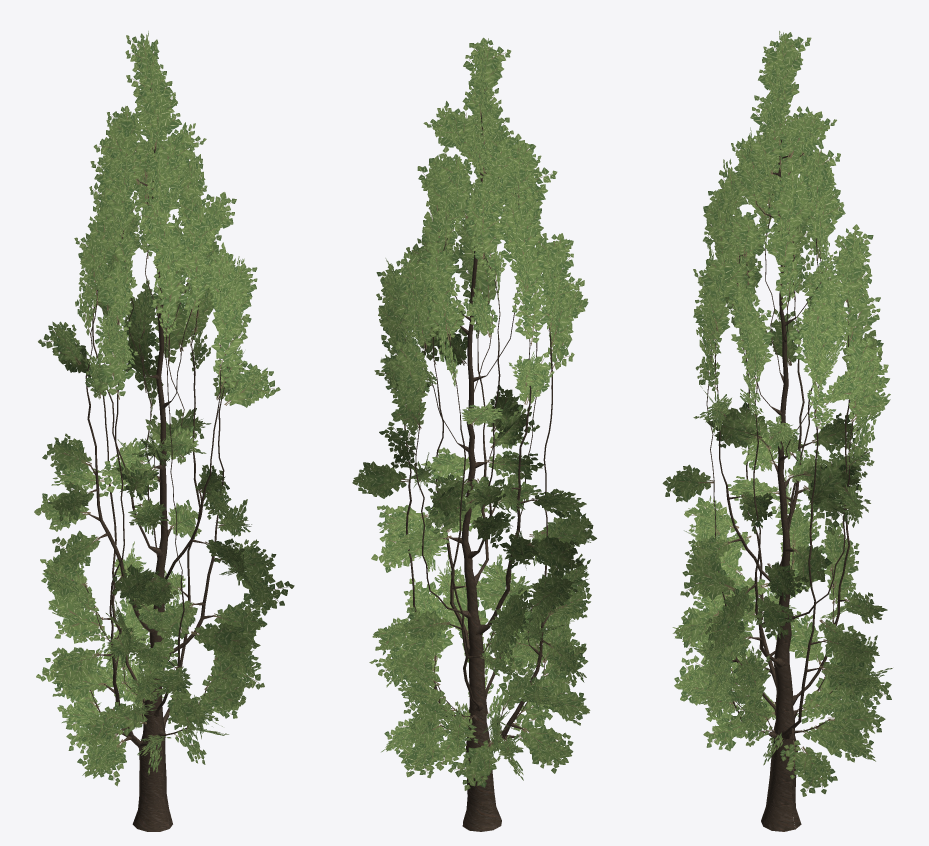
The model's file is Scenery_Poplar.fbx.
3 renders of one model, left to right at view 1: azimuth 30°, elevation 25°; view 2: azimuth 150°, elevation 25°; view 3: azimuth 270°, elevation 25°, orthographic.
Parts seen in each view (by area): view 1: Scenery_Poplar_LOD0; view 2: Scenery_Poplar_LOD0; view 3: Scenery_Poplar_LOD0.
Boxes of the visible parts, x1,y1,x2,y2 form: Scenery_Poplar_LOD0: (34,31,294,831); Scenery_Poplar_LOD0: (352,37,596,831); Scenery_Poplar_LOD0: (662,31,892,831).
Size of what is drawn, in the model's own units: 6.88 by 21.47 by 6.53.
